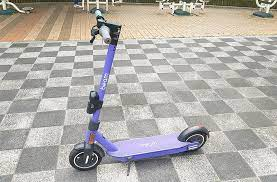kick_board: (69, 10, 208, 170)
kick_body: (115, 136, 180, 157)
kick_handler: (89, 11, 122, 44)
kick_neck: (86, 46, 117, 136)
kick_wheel: (70, 143, 101, 170), (181, 127, 207, 150)
